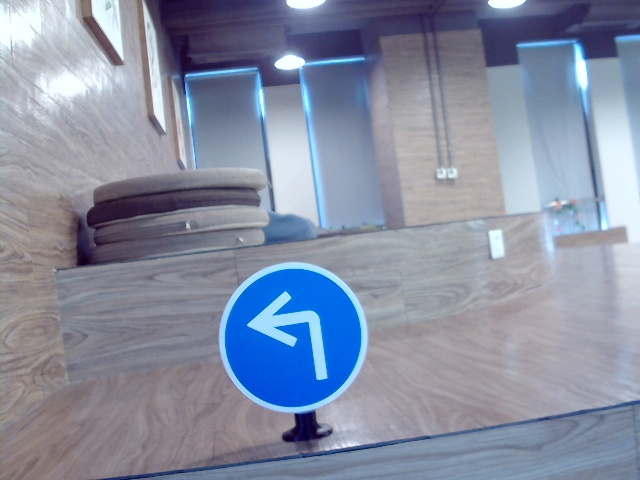turn_left: (247, 286, 332, 381)
